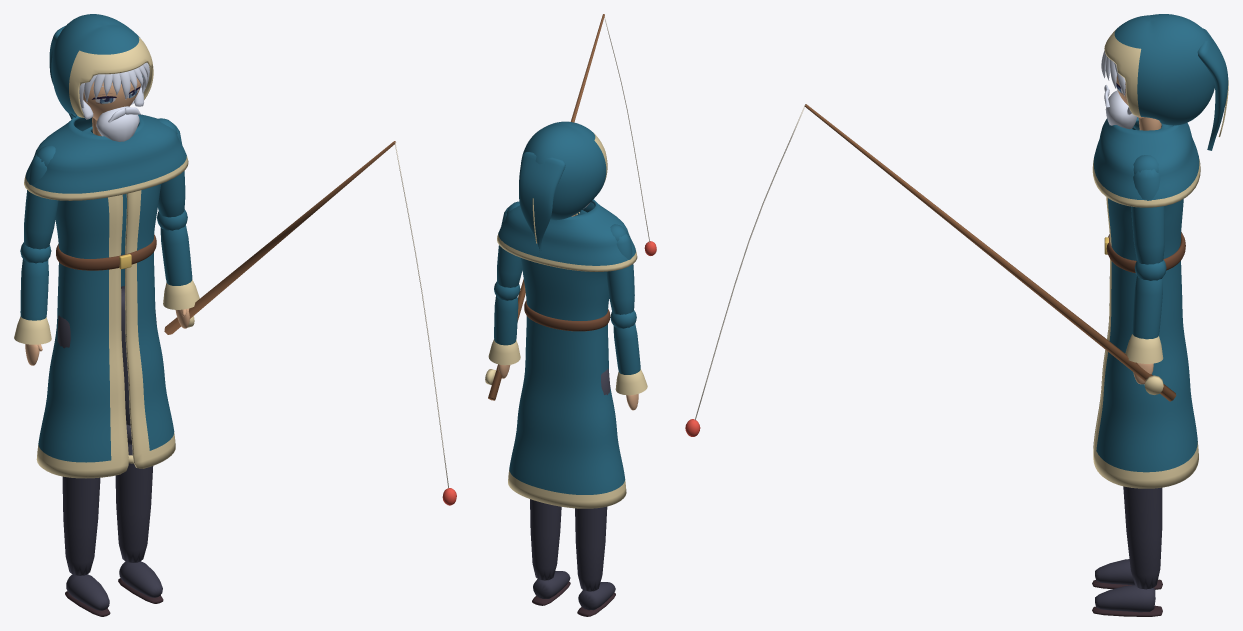
File: wade.glb
3 renders of one model, left to right at view 1: azimuth 30°, elevation 25°; view 2: azimuth 150°, elevation 25°; view 3: azimuth 270°, elevation 25°, orthographic. The views are drawn at different scales.
Visible parts, largest first — view 1: wade:body.mesh, wade:head.mesh, wade:foreR.mesh, wade:shinR.mesh, wade:shinL.mesh, wade:foreL.mesh, wade:armL.mesh, wade:armR.mesh, wade:legR.mesh; view 2: wade:body.mesh, wade:head.mesh, wade:foreR.mesh, wade:shinL.mesh, wade:shinR.mesh, wade:foreL.mesh, wade:armL.mesh, wade:armR.mesh; view 3: wade:body.mesh, wade:head.mesh, wade:foreR.mesh, wade:shinR.mesh, wade:armR.mesh, wade:shinL.mesh.
Boxes of the visible parts, x1,y1,x2,y2 form: wade:body.mesh: [24, 114, 188, 478]; wade:head.mesh: [49, 14, 153, 141]; wade:foreR.mesh: [157, 141, 456, 505]; wade:shinR.mesh: [115, 424, 163, 603]; wade:shinL.mesh: [62, 476, 110, 616]; wade:foreL.mesh: [14, 242, 51, 365]; wade:armL.mesh: [24, 145, 58, 249]; wade:armR.mesh: [157, 118, 185, 217]; wade:legR.mesh: [121, 286, 156, 425]; wade:body.mesh: [497, 199, 637, 508]; wade:head.mesh: [519, 121, 607, 252]; wade:foreR.mesh: [485, 14, 656, 400]; wade:shinL.mesh: [575, 506, 615, 616]; wade:shinR.mesh: [530, 499, 570, 605]; wade:foreL.mesh: [610, 310, 647, 410]; wade:armL.mesh: [606, 224, 634, 314]; wade:armR.mesh: [497, 201, 522, 287]; wade:body.mesh: [1092, 117, 1200, 488]; wade:head.mesh: [1101, 14, 1228, 150]; wade:foreR.mesh: [685, 104, 1176, 436]; wade:shinR.mesh: [1092, 486, 1162, 616]; wade:armR.mesh: [1131, 155, 1164, 264]; wade:shinL.mesh: [1092, 559, 1162, 589].
Size of the model in its own units: 0.6943 by 1.71 by 1.45.
Materials: 19 (1 with a texture image).
